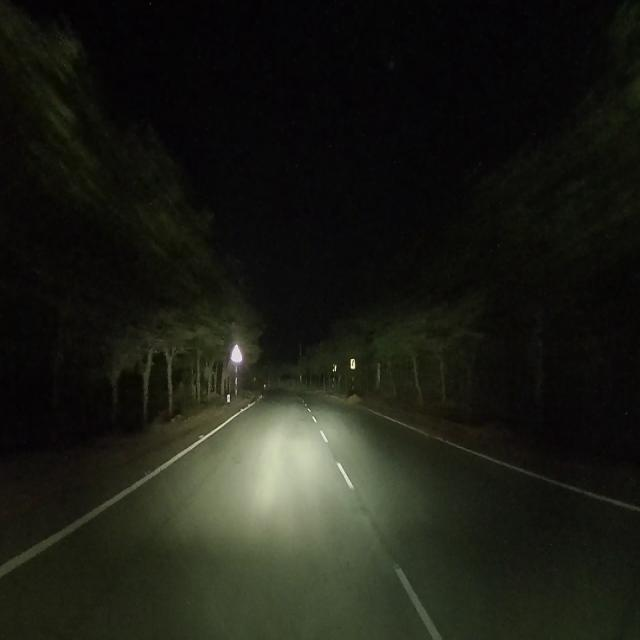right-hand-curve: (350, 357, 356, 370)
